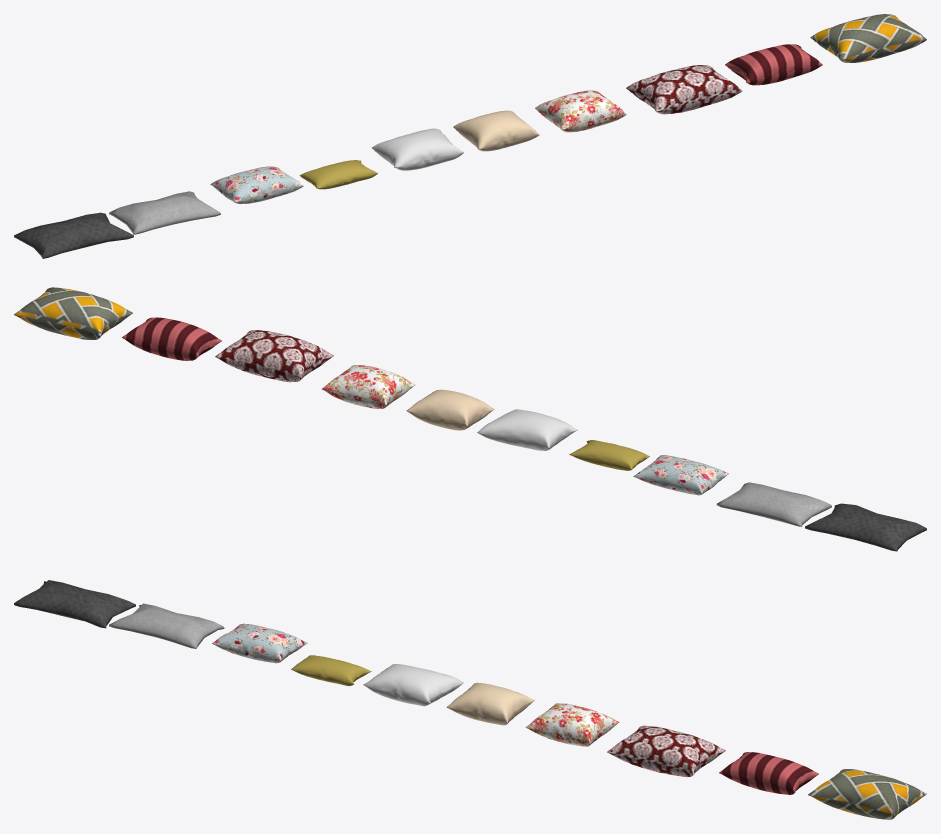
Rendered from pillows.fbx.
3 renders of one model, top to bottom at view 1: azimuth 30°, elevation 25°; view 2: azimuth 150°, elevation 25°; view 3: azimuth 330°, elevation 25°, orthographic.
Visible parts, largest first — view 1: Yusuf Tufted Upholstered Low Profile Standard Bed.002, Yusuf Tufted Upholstered Low Profile Standard Bed.003, double_bed_pillow_1, double_bed_pillow_2, Yusuf Tufted Upholstered Low Profile Standard Bed.001, pillow Copper Grove Aanekoski.002, Mcdonough Canopy Bed.002, pillow Copper Grove Aanekoski.001, Lyster Platform Bed.003, Mcdonough Canopy Bed.003; view 2: Yusuf Tufted Upholstered Low Profile Standard Bed.003, Yusuf Tufted Upholstered Low Profile Standard Bed.002, double_bed_pillow_1, double_bed_pillow_2, Yusuf Tufted Upholstered Low Profile Standard Bed.001, pillow Copper Grove Aanekoski.002, Mcdonough Canopy Bed.002, Lyster Platform Bed.003, pillow Copper Grove Aanekoski.001, Mcdonough Canopy Bed.003; view 3: Yusuf Tufted Upholstered Low Profile Standard Bed.002, Yusuf Tufted Upholstered Low Profile Standard Bed.003, double_bed_pillow_1, double_bed_pillow_2, Yusuf Tufted Upholstered Low Profile Standard Bed.001, Mcdonough Canopy Bed.002, pillow Copper Grove Aanekoski.002, pillow Copper Grove Aanekoski.001, Lyster Platform Bed.003, Mcdonough Canopy Bed.003.
Boxes of the visible parts, x1=… form: Yusuf Tufted Upholstered Low Profile Standard Bed.002: x1=626, y1=65, x2=742, y2=114; Yusuf Tufted Upholstered Low Profile Standard Bed.003: x1=810, y1=14, x2=926, y2=62; double_bed_pillow_1: x1=14, y1=212, x2=133, y2=258; double_bed_pillow_2: x1=109, y1=191, x2=220, y2=234; Yusuf Tufted Upholstered Low Profile Standard Bed.001: x1=725, y1=44, x2=822, y2=85; pillow Copper Grove Aanekoski.002: x1=535, y1=90, x2=626, y2=132; Mcdonough Canopy Bed.002: x1=372, y1=128, x2=463, y2=170; pillow Copper Grove Aanekoski.001: x1=453, y1=110, x2=539, y2=151; Lyster Platform Bed.003: x1=210, y1=166, x2=303, y2=203; Mcdonough Canopy Bed.003: x1=299, y1=160, x2=377, y2=189; Yusuf Tufted Upholstered Low Profile Standard Bed.003: x1=14, y1=287, x2=132, y2=339; Yusuf Tufted Upholstered Low Profile Standard Bed.002: x1=215, y1=330, x2=333, y2=382; double_bed_pillow_1: x1=805, y1=503, x2=926, y2=551; double_bed_pillow_2: x1=716, y1=482, x2=831, y2=526; Yusuf Tufted Upholstered Low Profile Standard Bed.001: x1=122, y1=317, x2=221, y2=360; pillow Copper Grove Aanekoski.002: x1=322, y1=365, x2=414, y2=409; Mcdonough Canopy Bed.002: x1=477, y1=409, x2=577, y2=450; Lyster Platform Bed.003: x1=633, y1=455, x2=728, y2=495; pillow Copper Grove Aanekoski.001: x1=406, y1=389, x2=494, y2=430; Mcdonough Canopy Bed.003: x1=569, y1=440, x2=649, y2=470; Yusuf Tufted Upholstered Low Profile Standard Bed.002: x1=607, y1=725, x2=725, y2=777; Yusuf Tufted Upholstered Low Profile Standard Bed.003: x1=808, y1=769, x2=926, y2=819; double_bed_pillow_1: x1=14, y1=580, x2=135, y2=628; double_bed_pillow_2: x1=109, y1=603, x2=224, y2=648; Yusuf Tufted Upholstered Low Profile Standard Bed.001: x1=719, y1=752, x2=818, y2=794; Mcdonough Canopy Bed.002: x1=363, y1=664, x2=463, y2=706; pillow Copper Grove Aanekoski.002: x1=525, y1=703, x2=619, y2=746; pillow Copper Grove Aanekoski.001: x1=446, y1=682, x2=534, y2=725; Lyster Platform Bed.003: x1=212, y1=623, x2=307, y2=663; Mcdonough Canopy Bed.003: x1=291, y1=655, x2=371, y2=686.
Size of the model in its own units: 7.52 by 0.2991 by 0.682.
